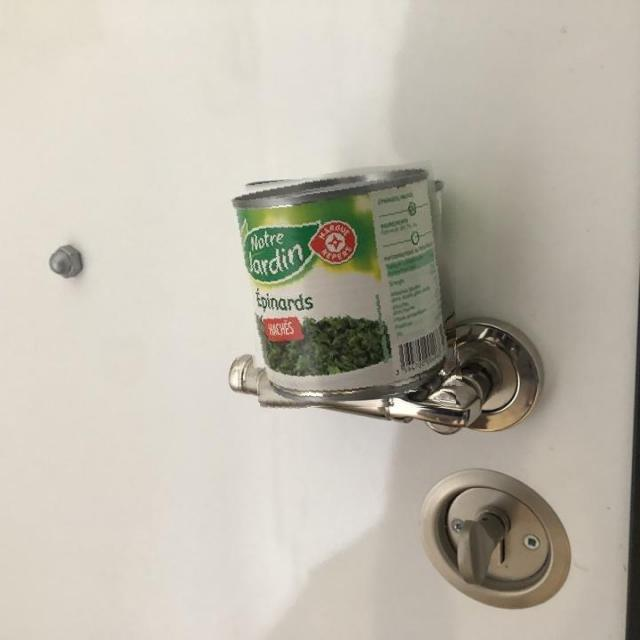recyclable: (234, 166, 456, 408)
